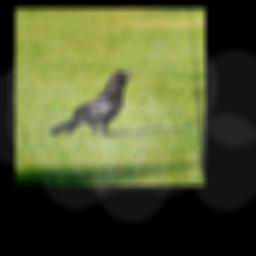Crow: (42, 67, 144, 144)
